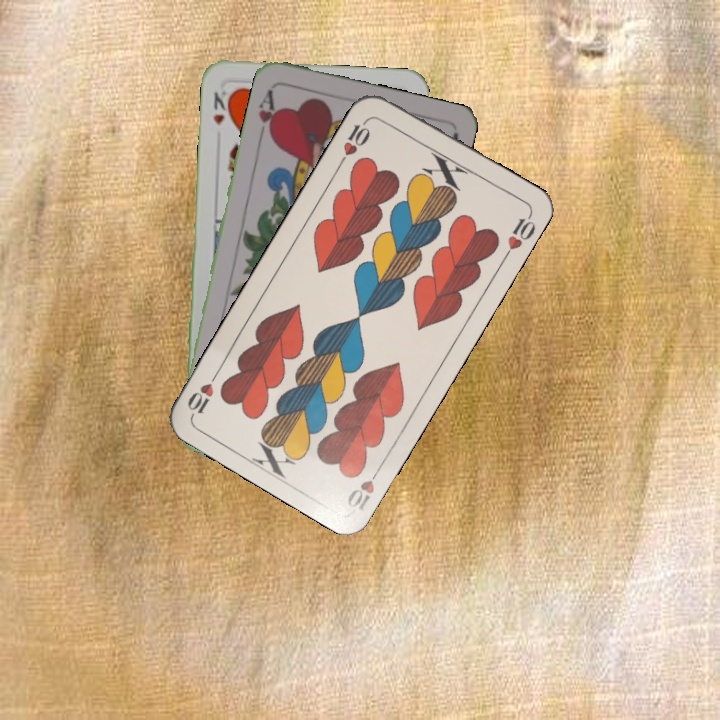H10: (343, 460, 386, 513), (335, 114, 373, 167)
HA: (254, 85, 281, 143)
HK: (209, 87, 234, 128)
